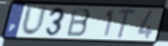1: (103, 8, 115, 38)
3: (44, 6, 68, 38)
4: (136, 9, 154, 41)
B: (65, 7, 93, 38)
T: (116, 8, 138, 41)
U: (20, 4, 49, 38)
